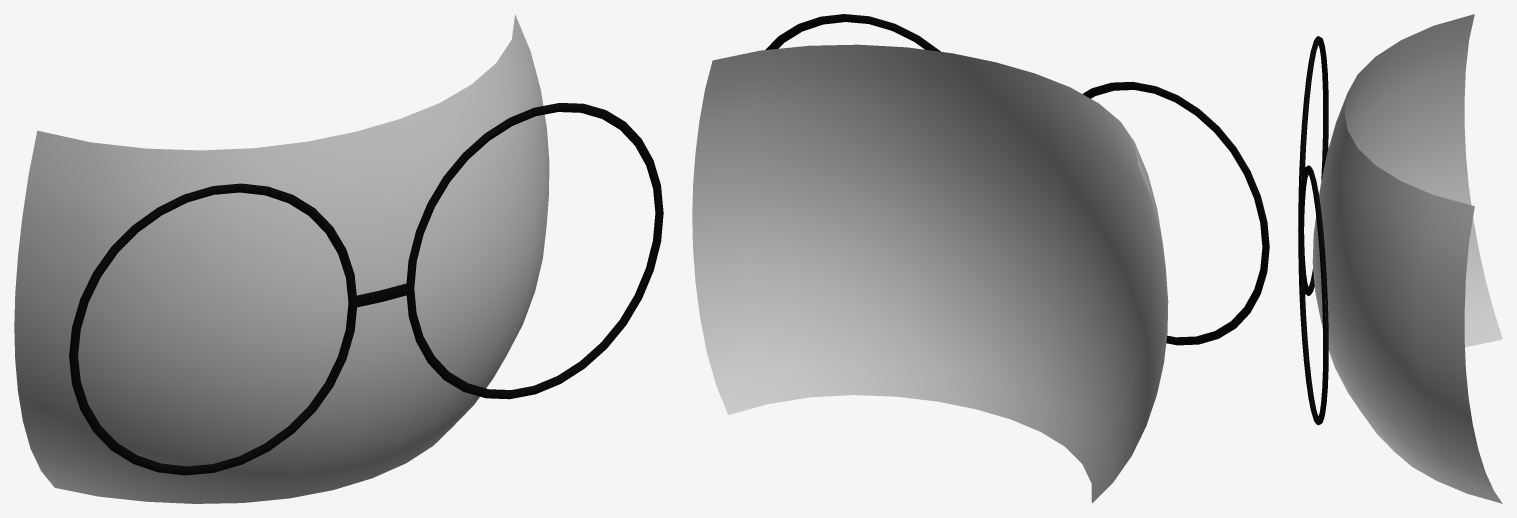
The model's file is Nerd.fbx.
The picture shows the model from 3 angles, left to right: view 1: azimuth 30°, elevation 25°; view 2: azimuth 150°, elevation 25°; view 3: azimuth 270°, elevation 25°; orthographic projection. The views are drawn at different scales.
Parts seen in each view (by area): view 1: Nerd Face; view 2: Nerd Face; view 3: Nerd Face.
Part boxes in pixels (left/top/right/bottom): Nerd Face: left=14, top=14, right=663, bottom=503; Nerd Face: left=692, top=14, right=1269, bottom=503; Nerd Face: left=1298, top=14, right=1502, bottom=503.
Size of the model in its own units: 62.07 by 37.73 by 22.47.
